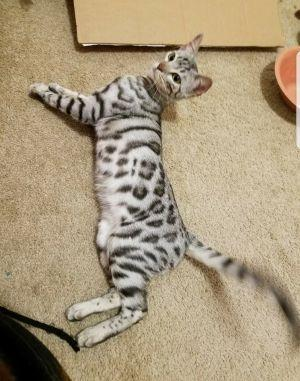bengal: (145, 29, 217, 115)
